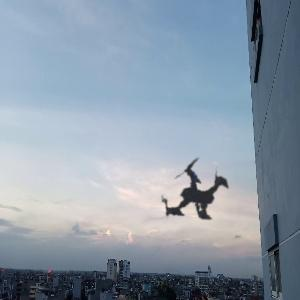drone: (97, 95, 292, 290)
